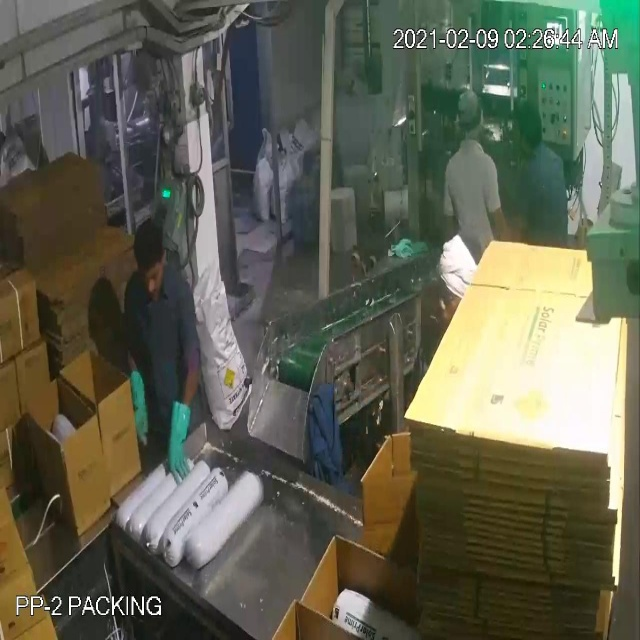Guantes: (164, 387, 201, 487), (121, 355, 154, 455)
